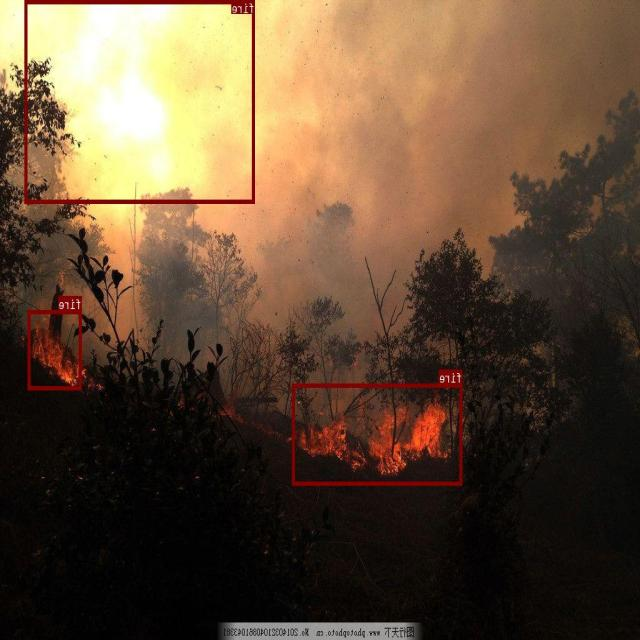fire: (25, 0, 255, 203), (293, 383, 463, 484), (29, 309, 82, 389)
